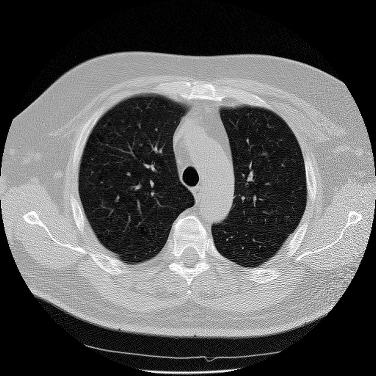nodule: (263, 152, 267, 156)
